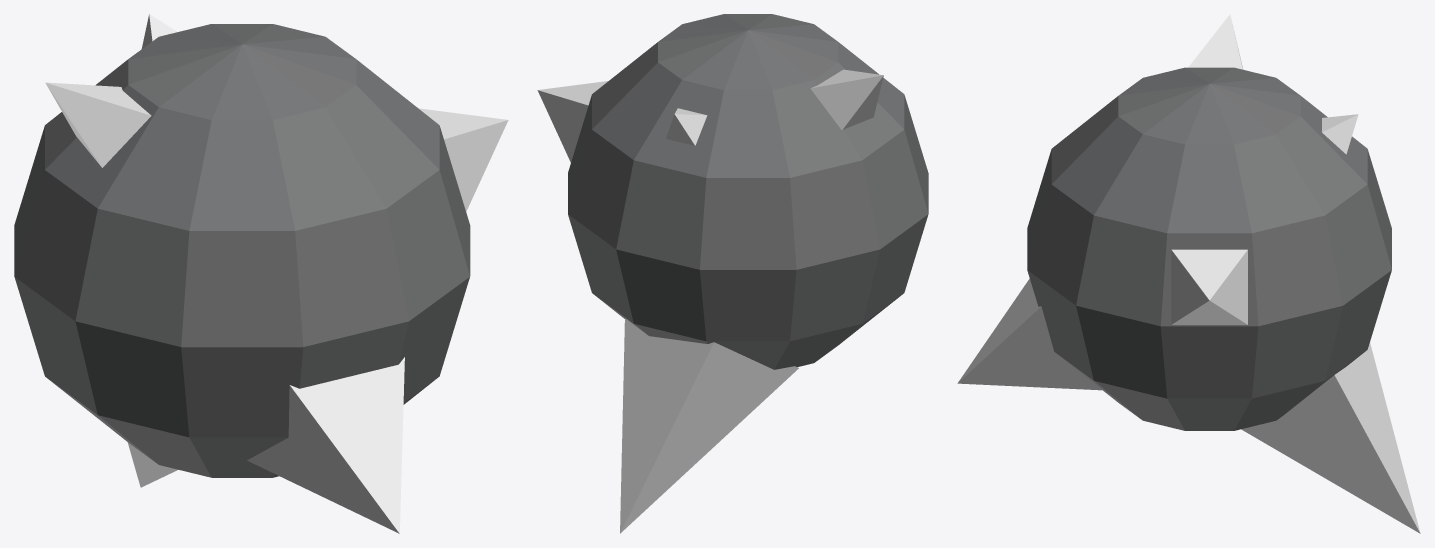
File: AsteroidTitaniumAlloy.gltf
3 views of the same model, side by side, from view 1: azimuth 30°, elevation 25°; view 2: azimuth 150°, elevation 25°; view 3: azimuth 270°, elevation 25° (orthographic). The views are drawn at different scales.
Parts seen in each view (by area): view 1: AsteroidBody, MetalFrag3, MetalFrag5, MetalFrag2, MetalFrag4; view 2: AsteroidBody, MetalFrag4, MetalFrag5, MetalFrag2, MetalFrag1; view 3: AsteroidBody, MetalFrag4, MetalFrag3, MetalFrag2, MetalFrag5, MetalFrag1.
Boxes of the visible parts, bbox=[...] form: AsteroidBody: bbox=[14, 24, 470, 477]; MetalFrag3: bbox=[247, 357, 404, 533]; MetalFrag5: bbox=[45, 82, 151, 167]; MetalFrag2: bbox=[419, 108, 508, 211]; MetalFrag4: bbox=[127, 442, 178, 487]; AsteroidBody: bbox=[568, 14, 928, 369]; MetalFrag4: bbox=[620, 318, 798, 533]; MetalFrag5: bbox=[810, 69, 883, 130]; MetalFrag2: bbox=[537, 81, 608, 162]; MetalFrag1: bbox=[666, 108, 707, 145]; AsteroidBody: bbox=[1027, 67, 1391, 430]; MetalFrag4: bbox=[1241, 343, 1420, 533]; MetalFrag3: bbox=[957, 278, 1103, 390]; MetalFrag2: bbox=[1171, 249, 1247, 324]; MetalFrag5: bbox=[1188, 14, 1242, 69]; MetalFrag1: bbox=[1322, 114, 1358, 154].
Bounding box in the file's own units: 0.2937 × 0.3313 × 0.3174.
Materials: 2 (2 with a texture image).
